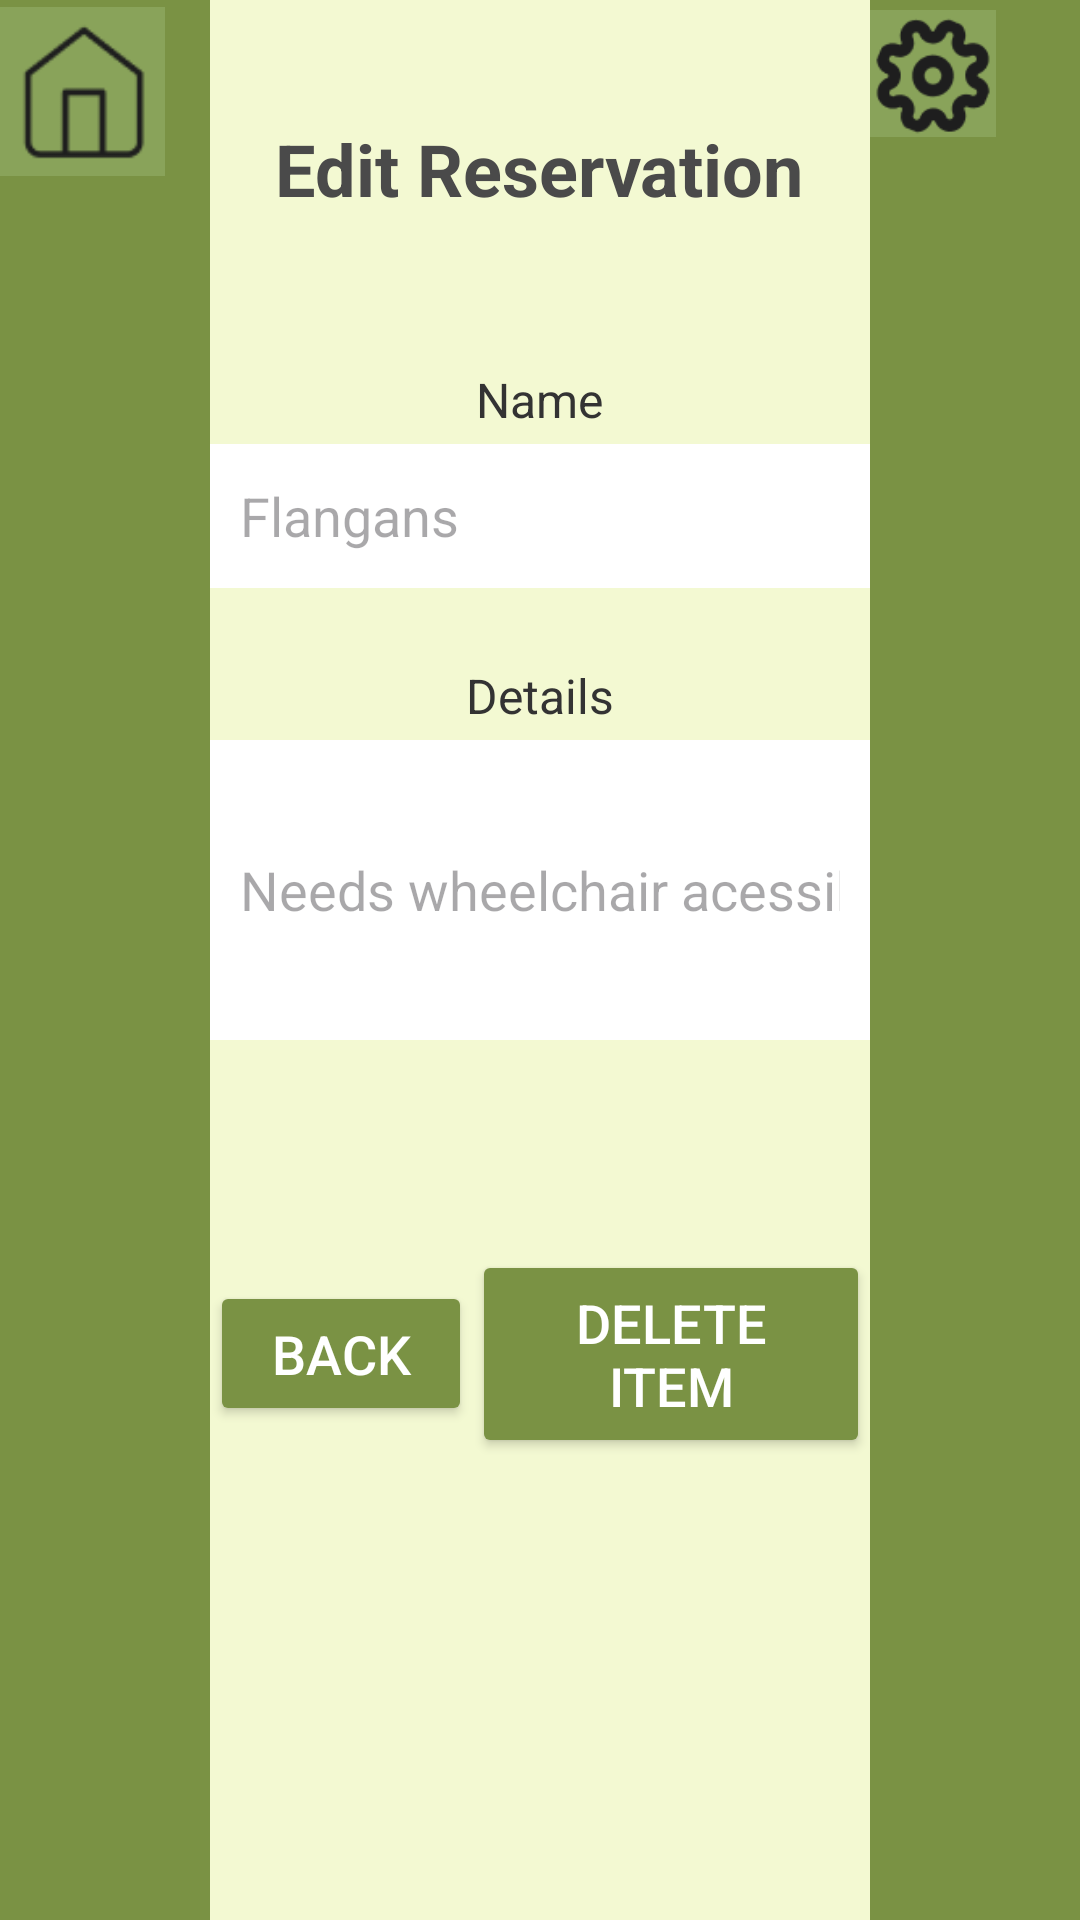

Screen size 1080 x 1920. Icon name, then its box in pixels as [left=x1, top=y1, right=x2, bottom=y2]:
home: [left=0, top=7, right=165, bottom=176]
settings: [left=876, top=20, right=990, bottom=132]
